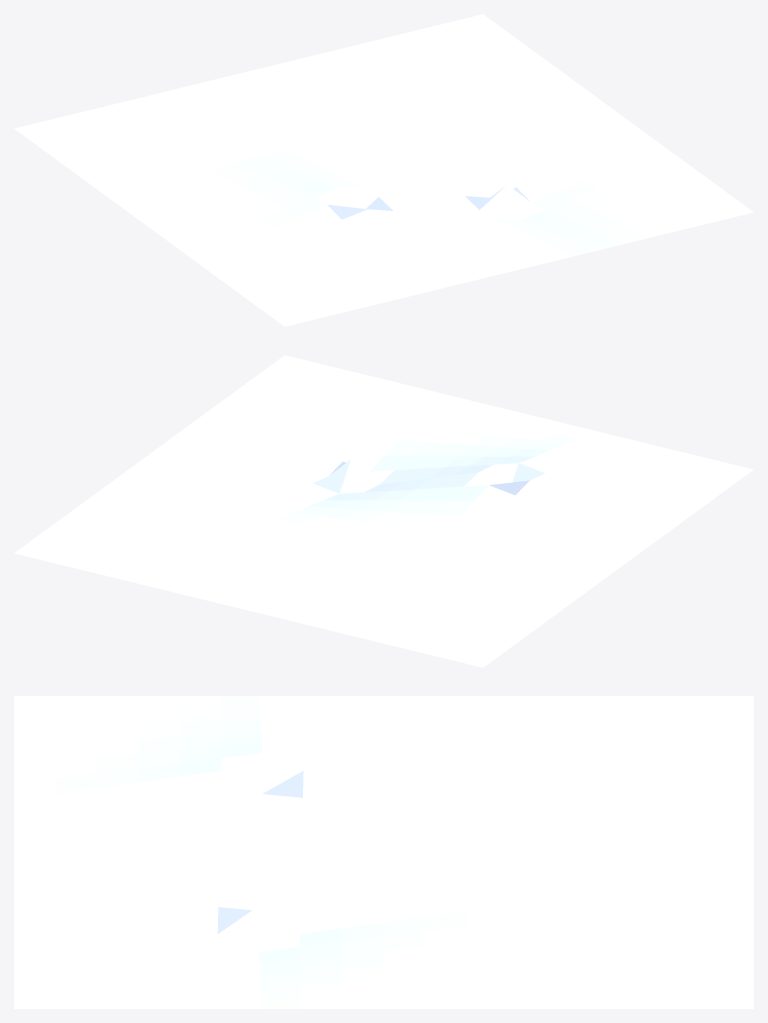
The picture shows the model from 3 angles, top to bottom: view 1: azimuth 30°, elevation 25°; view 2: azimuth 150°, elevation 25°; view 3: azimuth 270°, elevation 25°; orthographic projection. The views are drawn at different scales.
Parts seen in each view (by area): view 1: Plane.009; view 2: Plane.009; view 3: Plane.009.
Boxes of the visible parts, box(x1,y1,x2,y2) form: Plane.009: box(14, 14, 753, 326); Plane.009: box(14, 355, 753, 667); Plane.009: box(14, 696, 753, 1008).
Size of the model in its own units: 2 by 0.1885 by 2.
Materials: 1 (1 with a texture image).
